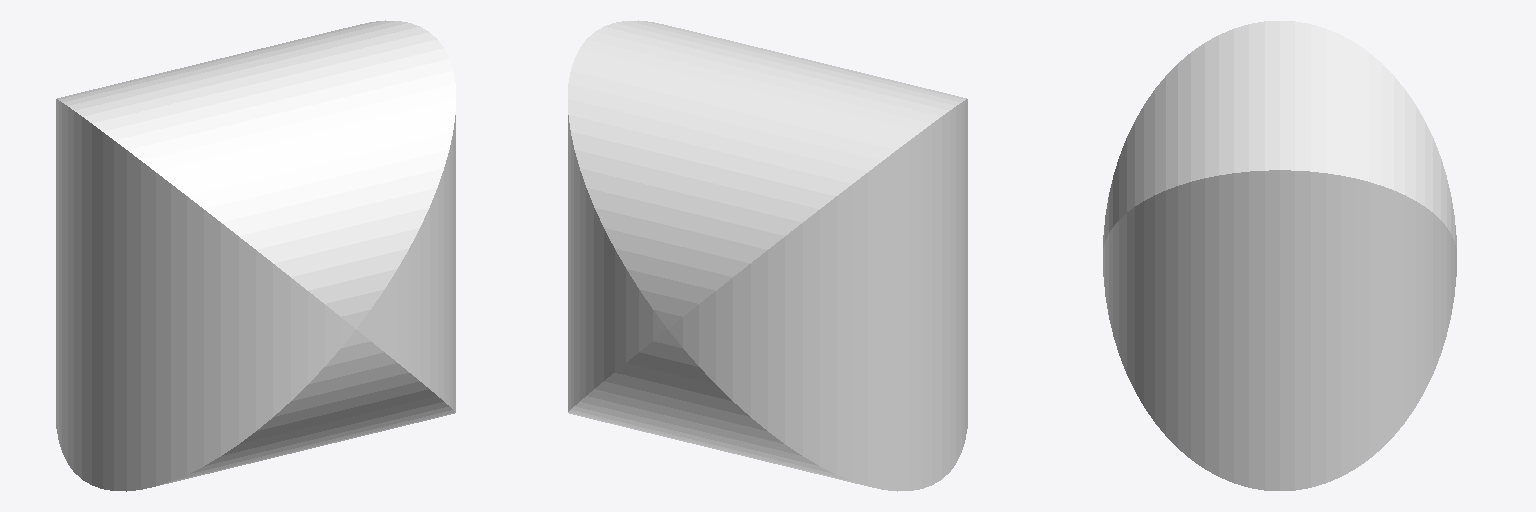
robot.urdf — bicylinder:
<?xml version="1.0" ?>
<robot name="bicylinder">
  <link name="bicylinderLink">
  <contact>
      <lateral_friction value="1"/>
  </contact>
    <inertial>
      <origin rpy="0 0 0" xyz="0 0 0"/>
       <mass value=".02"/>
       <inertia ixx="0.000276" ixy="0" ixz="0" iyy="0.000276" iyz="0" izz="0.000236 "/>
    </inertial>
    <visual>
      <origin rpy="0 0 0" xyz="0 0 0"/>
      <geometry>
				<mesh filename="bicylinder.obj" scale="1 1 1"/>
      </geometry>
       <material name="white">
        <color rgba="1 1 1 1"/>
      </material>
    </visual>
    <collision>
      <origin rpy="0 0 0" xyz="0 0 0"/>
      <geometry>
	 	<mesh filename="bicylinder.obj" scale="1 1 1"/>
      </geometry>
    </collision>
  </link>
</robot>

--- Facts derived from the render (not from the file) ---
The picture shows the robot from 3 angles, left to right: view 1: azimuth 30°, elevation 25°; view 2: azimuth 150°, elevation 25°; view 3: azimuth 270°, elevation 25°; orthographic projection.
Robot: bicylinder — 1 links, 0 joints (none); root link bicylinderLink; default pose: every joint at zero.
Links seen in each view (by area): view 1: bicylinderLink; view 2: bicylinderLink; view 3: bicylinderLink.
Boxes of the visible links, x1=… form: bicylinderLink: x1=56, y1=20, x2=455, y2=491; bicylinderLink: x1=568, y1=20, x2=967, y2=491; bicylinderLink: x1=1103, y1=21, x2=1456, y2=490.
Bounding box of the posed robot: 1 × 1 × 1 m (x, y, z).
1 mesh visuals loaded from 1 distinct referenced files (1 OBJ).
